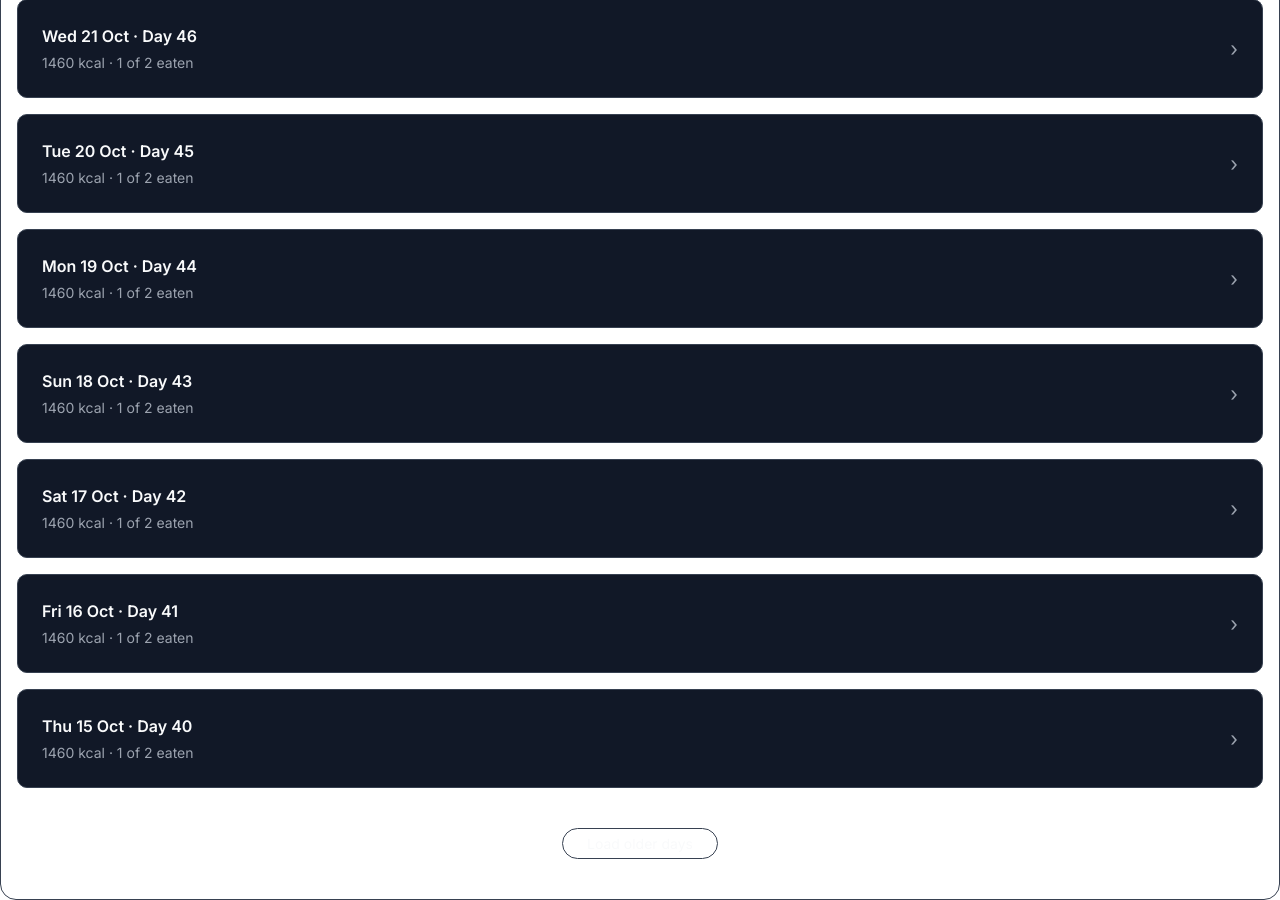
Test: NutritionDaysListComponent › loads older days after the last one and appends them
(page scrolled)
Step 1. Click the button with class "load-more" → x=640, y=844, box [562, 828, 718, 859]
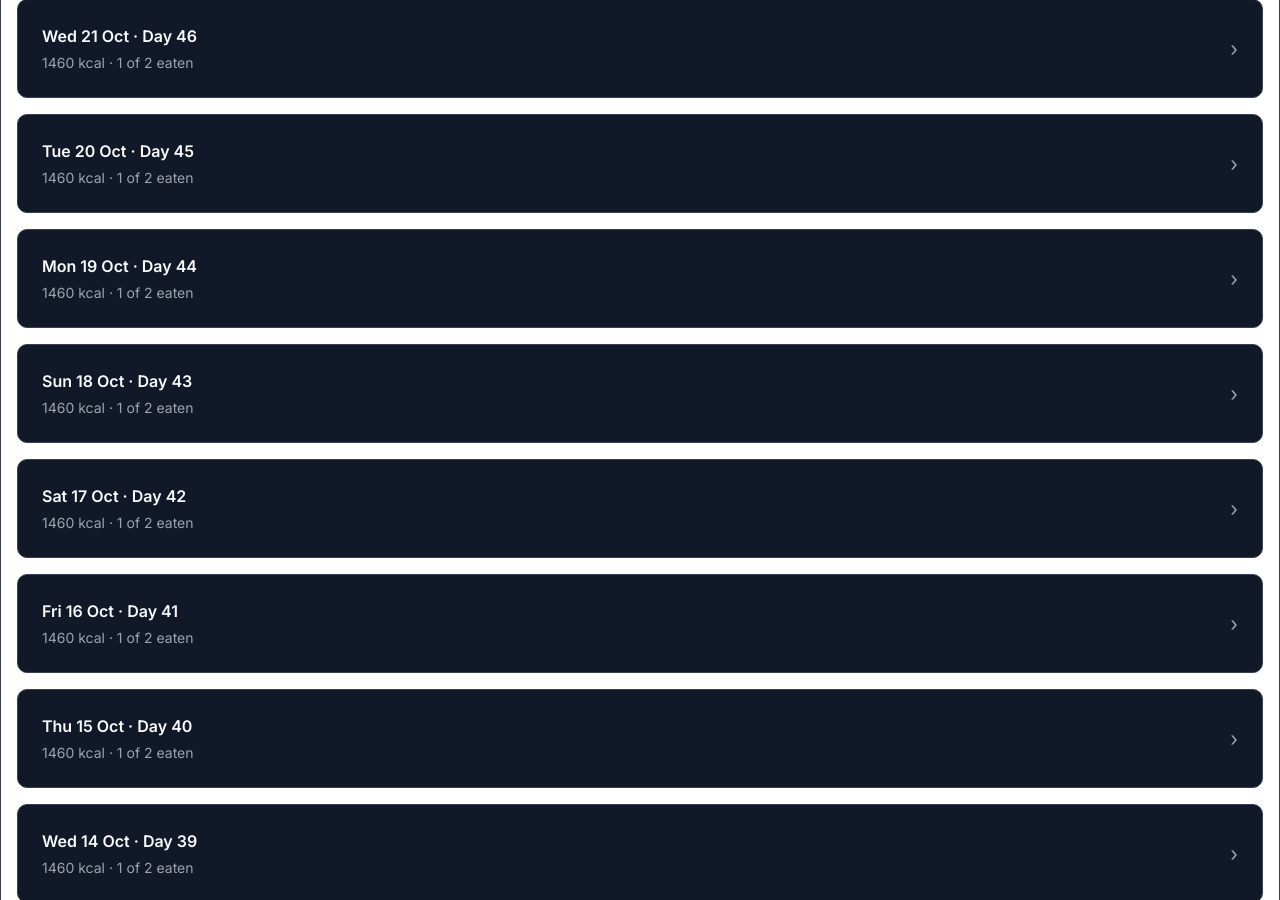
Result: the button with class "load-more" is gone
